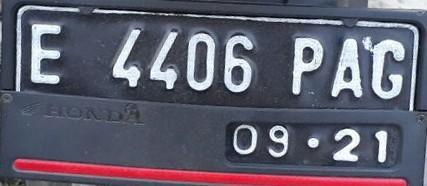clone-license-plate: (13, 0, 419, 170)
